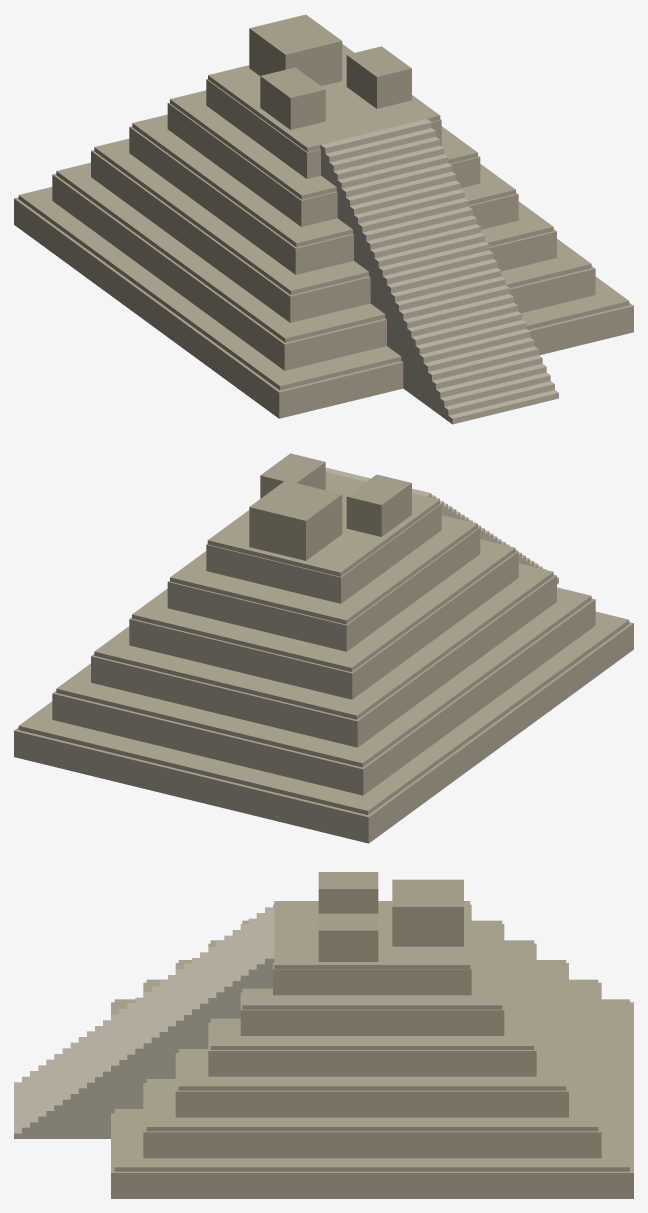
File: meso-calakmul-ii-ruin.glb
3 views of the same model, one above another, from view 1: azimuth 30°, elevation 25°; view 2: azimuth 150°, elevation 25°; view 3: azimuth 270°, elevation 25° (orthographic).
Parts seen in each view (by area): view 1: meso-body, meso-stair, meso-shrine; view 2: meso-body, meso-shrine, meso-stair; view 3: meso-body, meso-stair, meso-shrine.
Boxes of the visible parts, left/top/right/bottom form: meso-body: left=14, top=44, right=633, bottom=418; meso-stair: left=320, top=119, right=558, bottom=424; meso-shrine: left=249, top=14, right=411, bottom=129; meso-body: left=14, top=472, right=633, bottom=843; meso-shrine: left=249, top=453, right=411, bottom=560; meso-stair: left=325, top=467, right=558, bottom=584; meso-body: left=111, top=901, right=633, bottom=1198; meso-stair: left=14, top=907, right=274, bottom=1138; meso-shrine: left=318, top=872, right=463, bottom=961.
Size of the model in its own units: 58.39 by 35.1 by 89.6.
